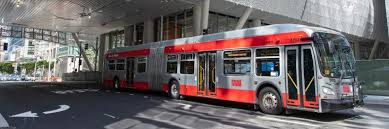bus: (100, 23, 362, 116)
